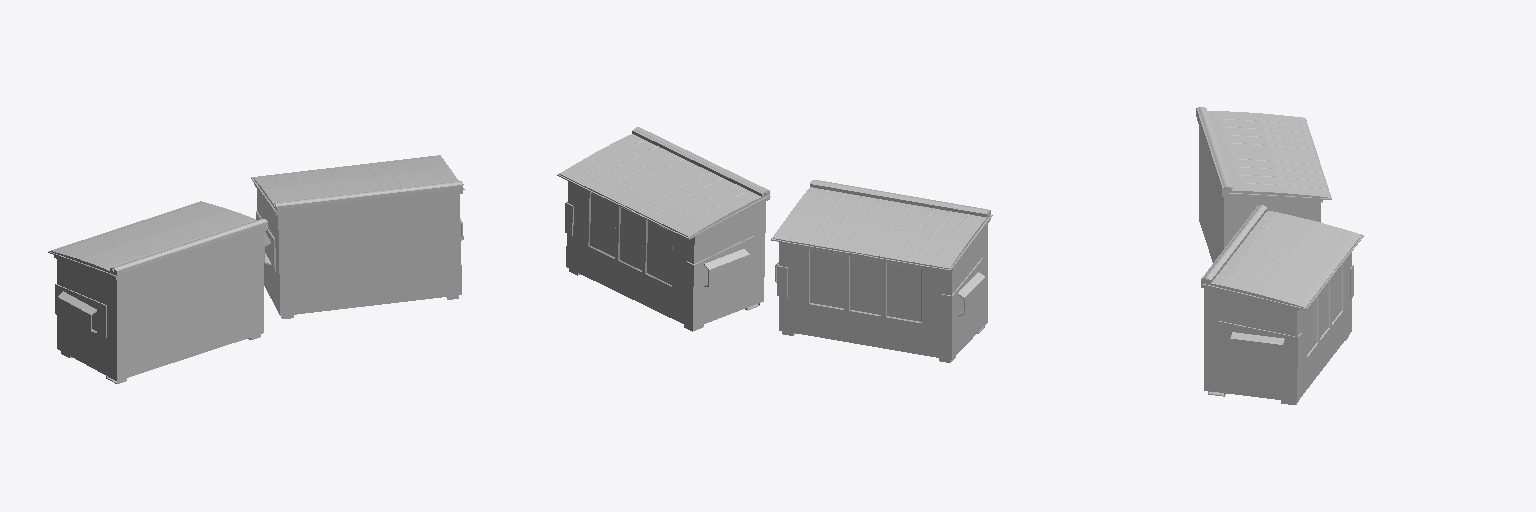
Rendered from botes_basura.obj.
3 renders of one model, left to right at view 1: azimuth 30°, elevation 25°; view 2: azimuth 150°, elevation 25°; view 3: azimuth 270°, elevation 25°, orthographic.
Parts seen in each view (by area): view 1: 1.3Botes_de_basura; view 2: 1.3Botes_de_basura; view 3: 1.3Botes_de_basura.
Part boxes in pixels (left/top/right/bottom): 1.3Botes_de_basura: left=48, top=155, right=464, bottom=383; 1.3Botes_de_basura: left=557, top=127, right=992, bottom=362; 1.3Botes_de_basura: left=1196, top=107, right=1363, bottom=404.
Size of the model in its own units: 1.62 by 0.4772 by 0.5979.